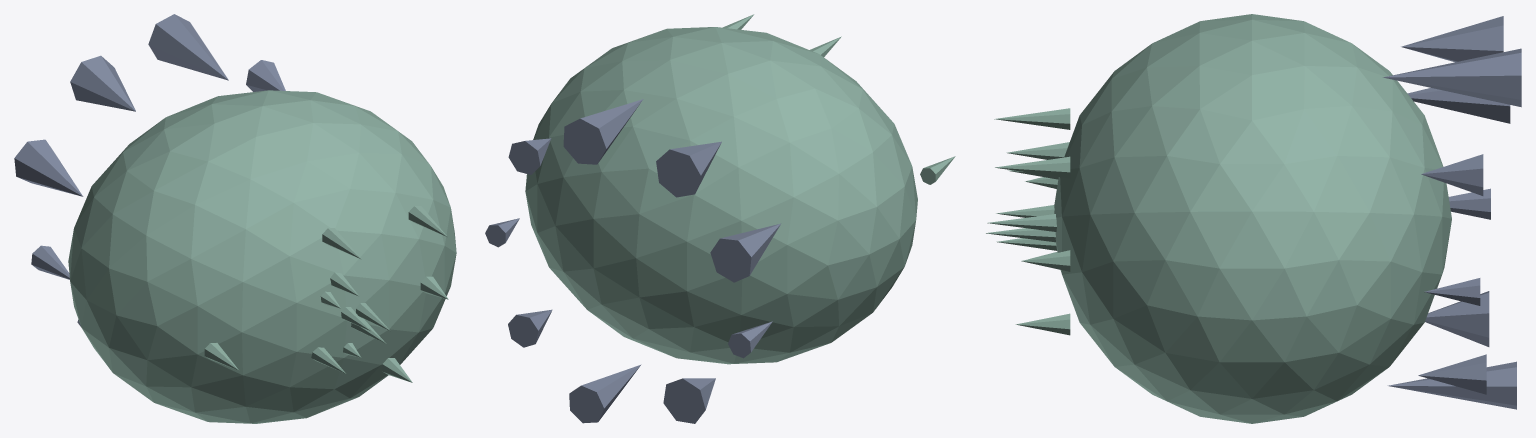
Rendered from 09_Floating_Mountain_Rock.glb.
3 views of the same model, side by side, from view 1: azimuth 30°, elevation 25°; view 2: azimuth 150°, elevation 25°; view 3: azimuth 270°, elevation 25° (orthographic). The views are drawn at different scales.
Visible parts, largest first — view 1: 09_Floating_Mountain_Rock_00, 09_Floating_Mountain_Rock_03, 09_Floating_Mountain_Rock_04, 09_Floating_Mountain_Rock_05, 09_Floating_Mountain_Rock_02, 09_Floating_Mountain_Rock_06, 09_Floating_Mountain_Rock_10, 09_Floating_Mountain_Rock_18, 09_Floating_Mountain_Rock_14; view 2: 09_Floating_Mountain_Rock_00, 09_Floating_Mountain_Rock_03, 09_Floating_Mountain_Rock_04, 09_Floating_Mountain_Rock_05, 09_Floating_Mountain_Rock_08, 09_Floating_Mountain_Rock_07, 09_Floating_Mountain_Rock_09, 09_Floating_Mountain_Rock_02, 09_Floating_Mountain_Rock_06, 09_Floating_Mountain_Rock_01, 09_Floating_Mountain_Rock_14; view 3: 09_Floating_Mountain_Rock_00, 09_Floating_Mountain_Rock_03, 09_Floating_Mountain_Rock_04, 09_Floating_Mountain_Rock_08, 09_Floating_Mountain_Rock_07, 09_Floating_Mountain_Rock_05, 09_Floating_Mountain_Rock_09, 09_Floating_Mountain_Rock_02, 09_Floating_Mountain_Rock_06, 09_Floating_Mountain_Rock_10, 09_Floating_Mountain_Rock_18, 09_Floating_Mountain_Rock_01 (+5 smaller).
Boxes of the visible parts, x1,y1,x2,y2 form: 09_Floating_Mountain_Rock_00: (68,90,456,423); 09_Floating_Mountain_Rock_03: (148,14,228,80); 09_Floating_Mountain_Rock_04: (70,55,135,111); 09_Floating_Mountain_Rock_05: (14,139,83,196); 09_Floating_Mountain_Rock_02: (246,60,285,91); 09_Floating_Mountain_Rock_06: (31,245,69,279); 09_Floating_Mountain_Rock_10: (322,228,361,259); 09_Floating_Mountain_Rock_18: (408,206,447,237); 09_Floating_Mountain_Rock_14: (204,343,238,370); 09_Floating_Mountain_Rock_00: (525,27,917,364); 09_Floating_Mountain_Rock_03: (563,99,643,164); 09_Floating_Mountain_Rock_04: (656,141,721,197); 09_Floating_Mountain_Rock_05: (710,223,780,282); 09_Floating_Mountain_Rock_08: (569,364,641,423); 09_Floating_Mountain_Rock_07: (663,378,715,423); 09_Floating_Mountain_Rock_09: (508,309,552,347); 09_Floating_Mountain_Rock_02: (508,138,551,174); 09_Floating_Mountain_Rock_06: (728,321,772,358); 09_Floating_Mountain_Rock_01: (485,218,519,247); 09_Floating_Mountain_Rock_14: (920,156,955,184); 09_Floating_Mountain_Rock_00: (1054,14,1451,423); 09_Floating_Mountain_Rock_03: (1383,48,1521,107); 09_Floating_Mountain_Rock_04: (1401,16,1503,62); 09_Floating_Mountain_Rock_08: (1387,361,1516,409); 09_Floating_Mountain_Rock_07: (1425,291,1489,346); 09_Floating_Mountain_Rock_05: (1407,88,1510,123); 09_Floating_Mountain_Rock_09: (1418,354,1486,394); 09_Floating_Mountain_Rock_02: (1421,154,1483,195); 09_Floating_Mountain_Rock_06: (1448,188,1490,219); 09_Floating_Mountain_Rock_10: (994,108,1070,129); 09_Floating_Mountain_Rock_18: (995,156,1070,178); 09_Floating_Mountain_Rock_01: (1424,278,1480,305).
Size of the model in its own units: 12 by 9.92 by 13.43.
